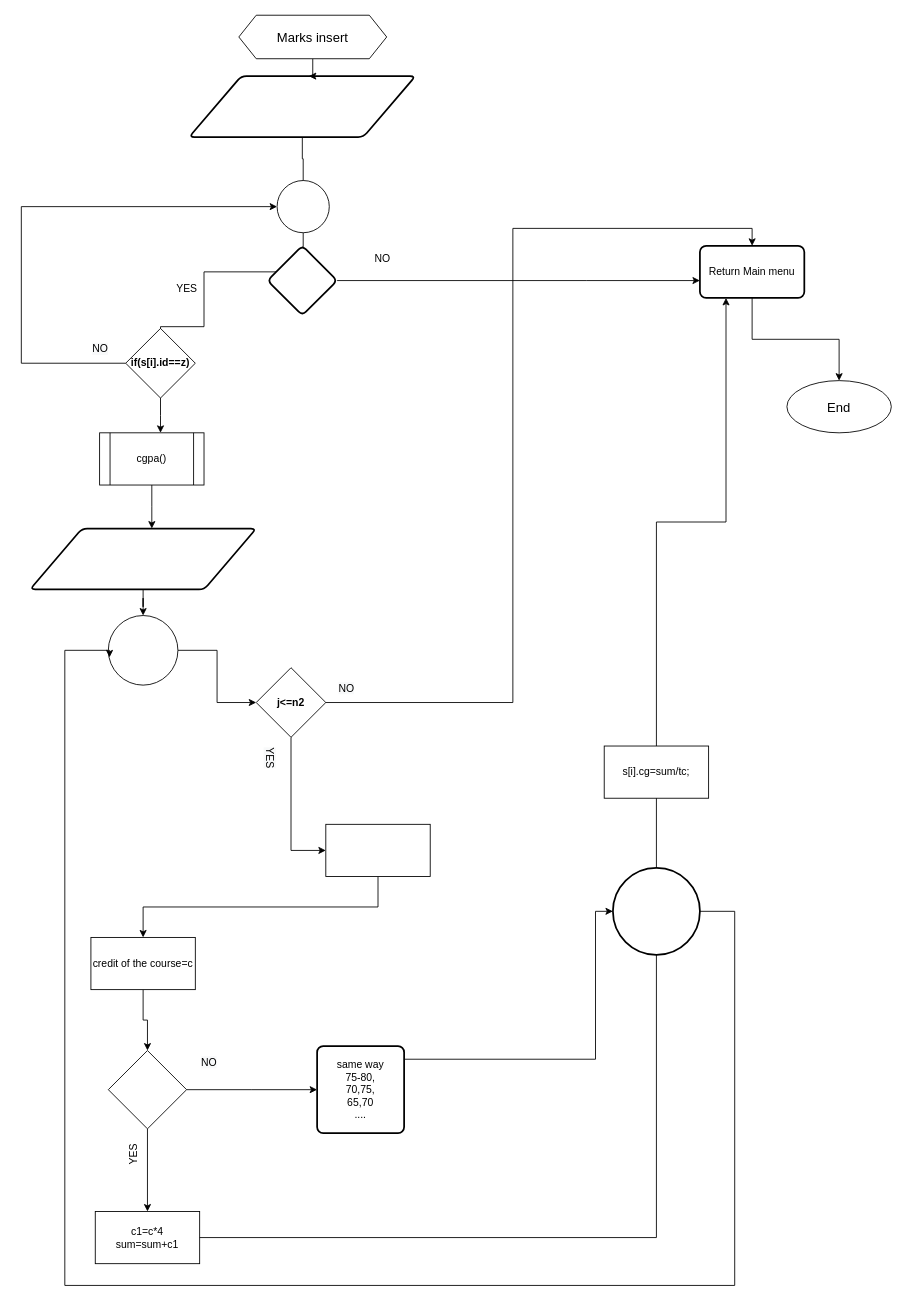
Image size: 907x1308. Some labels were removed from this diagram. The shapes that lost their labels are listed below. From the top down, each one's box as (x1, y1, x2, y2) in pixels, then its label:
(188, 75, 416, 137): amount of student existing =n8 student ID=z , i=0
(266, 244, 338, 316): if i<n8
(29, 527, 257, 590): amount of subject =n2 student ID=z , j=1
(325, 823, 430, 877): Enter sub name =m
(107, 1050, 187, 1129): if m=>80 & m<=100
